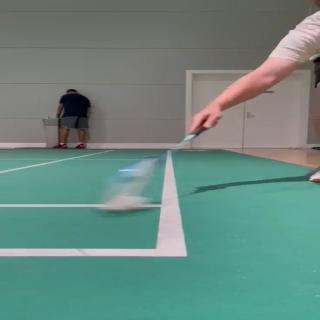Shuttle: (100, 196, 149, 210)
